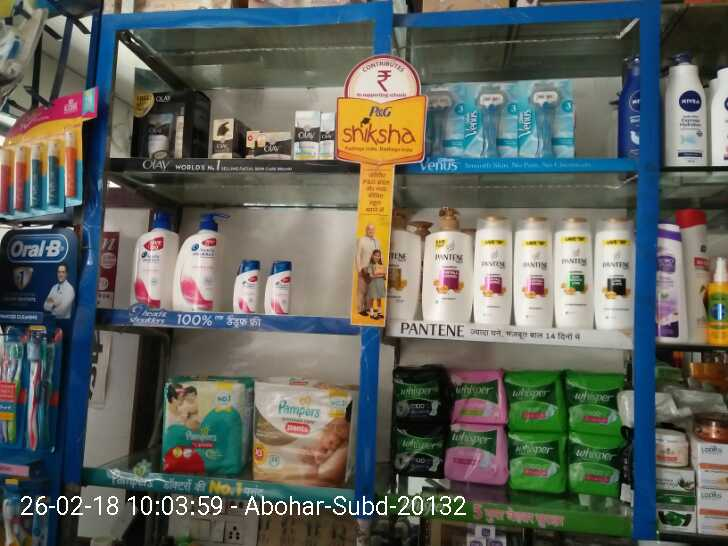venus: (469, 82, 522, 157), (522, 81, 573, 157), (430, 82, 469, 153)
